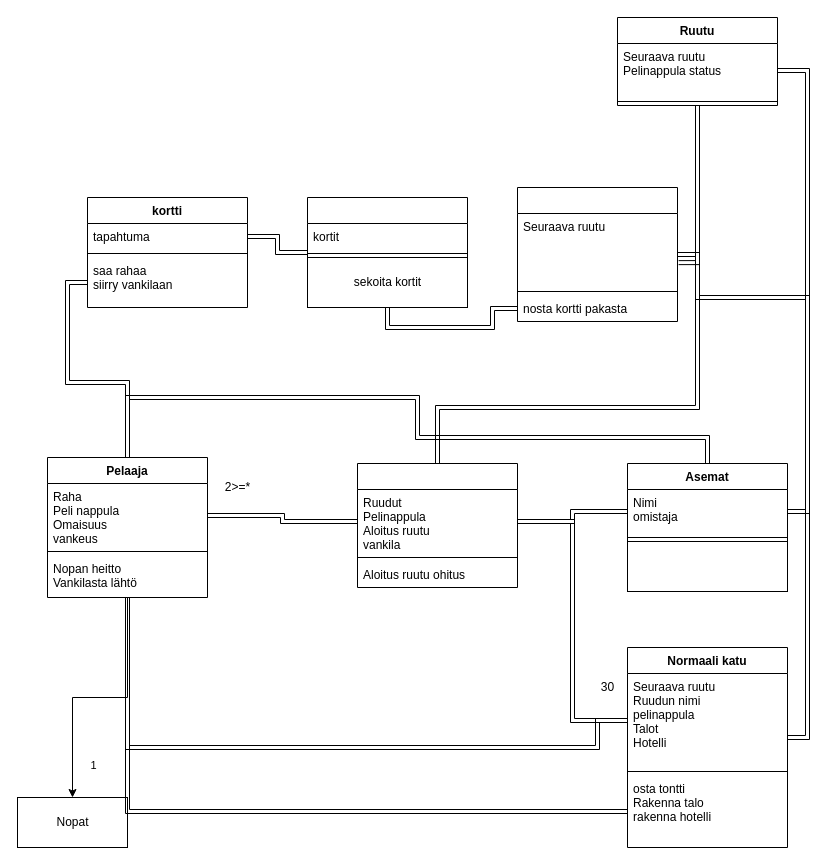
Image size: 827x868. Some labels were removed from this diagram. Each missing label, with the box of its shape:
Lauta: (356, 462, 518, 588)
osta asema: (626, 540, 788, 592)
Pakka: (306, 196, 468, 308)
Sattuma/Yhteismaa: (516, 186, 678, 322)
